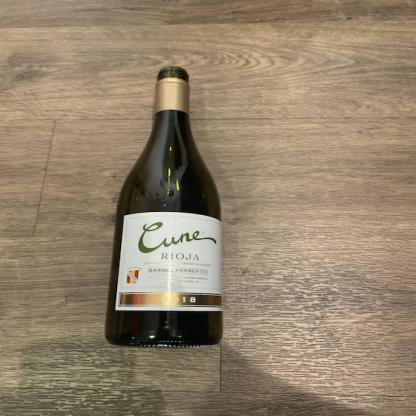trash: (104, 64, 229, 348)
